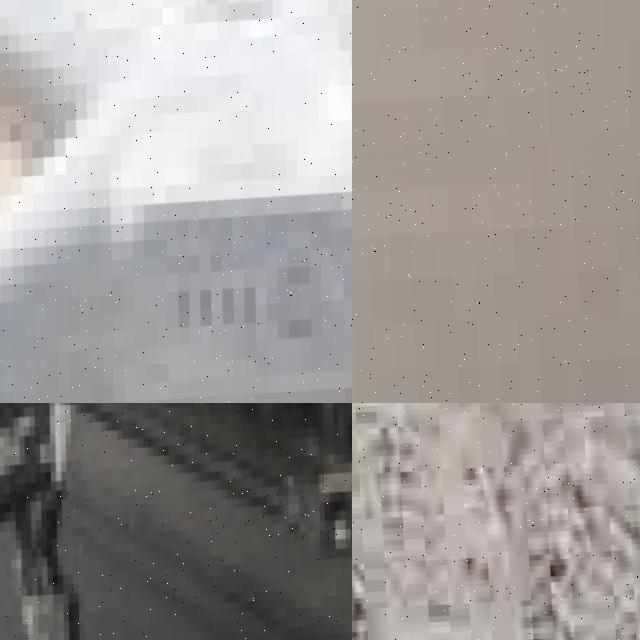drone: (0, 0, 352, 403), (0, 403, 352, 640)
